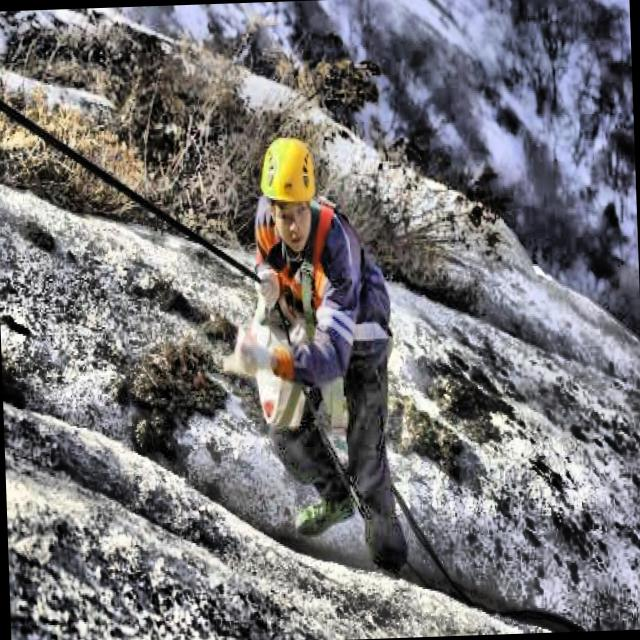helmet: (252, 125, 325, 246)
